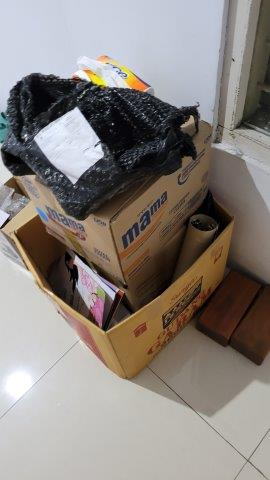kardus: (4, 170, 233, 382)
kertas: (34, 108, 102, 187)
